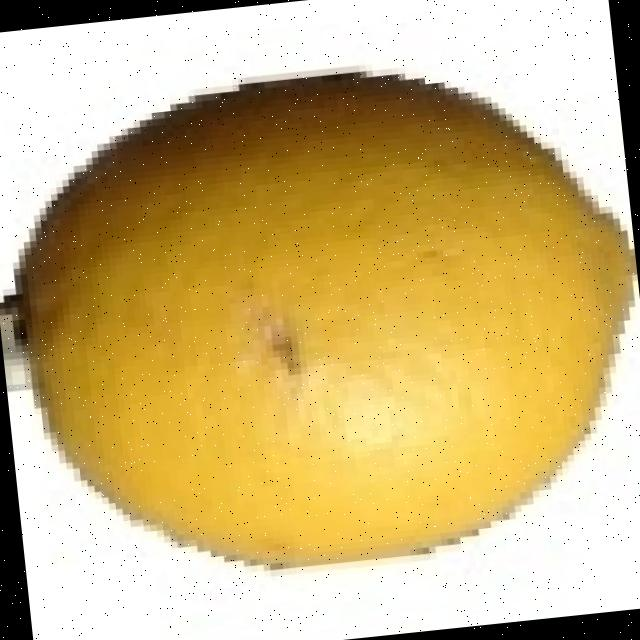lemon: (2, 74, 637, 563)
